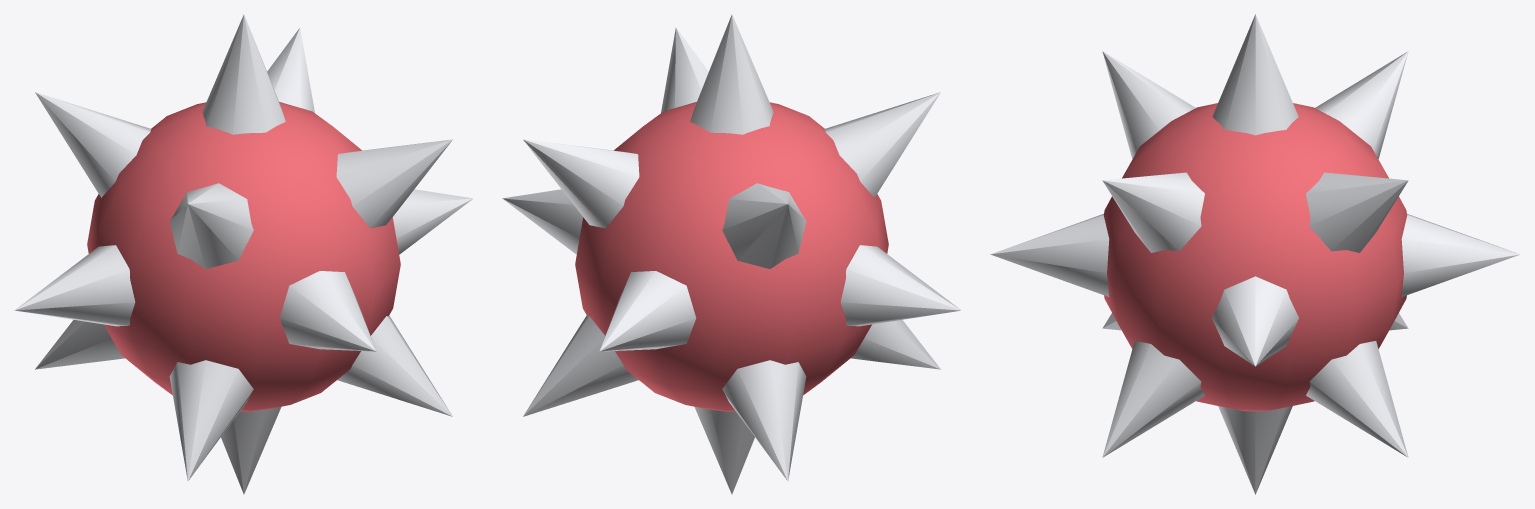
The model's file is spike_ball.gltf.
The picture shows the model from 3 angles, left to right: view 1: azimuth 30°, elevation 25°; view 2: azimuth 150°, elevation 25°; view 3: azimuth 270°, elevation 25°; orthographic projection.
Parts seen in each view (by area): view 1: spike_ball; view 2: spike_ball; view 3: spike_ball.
Boxes of the visible parts, x1=… form: spike_ball: x1=14, y1=14, x2=473, y2=494; spike_ball: x1=502, y1=14, x2=961, y2=494; spike_ball: x1=990, y1=14, x2=1520, y2=494.
Bounding box in the file's own units: 1.84 × 1.84 × 1.84.
